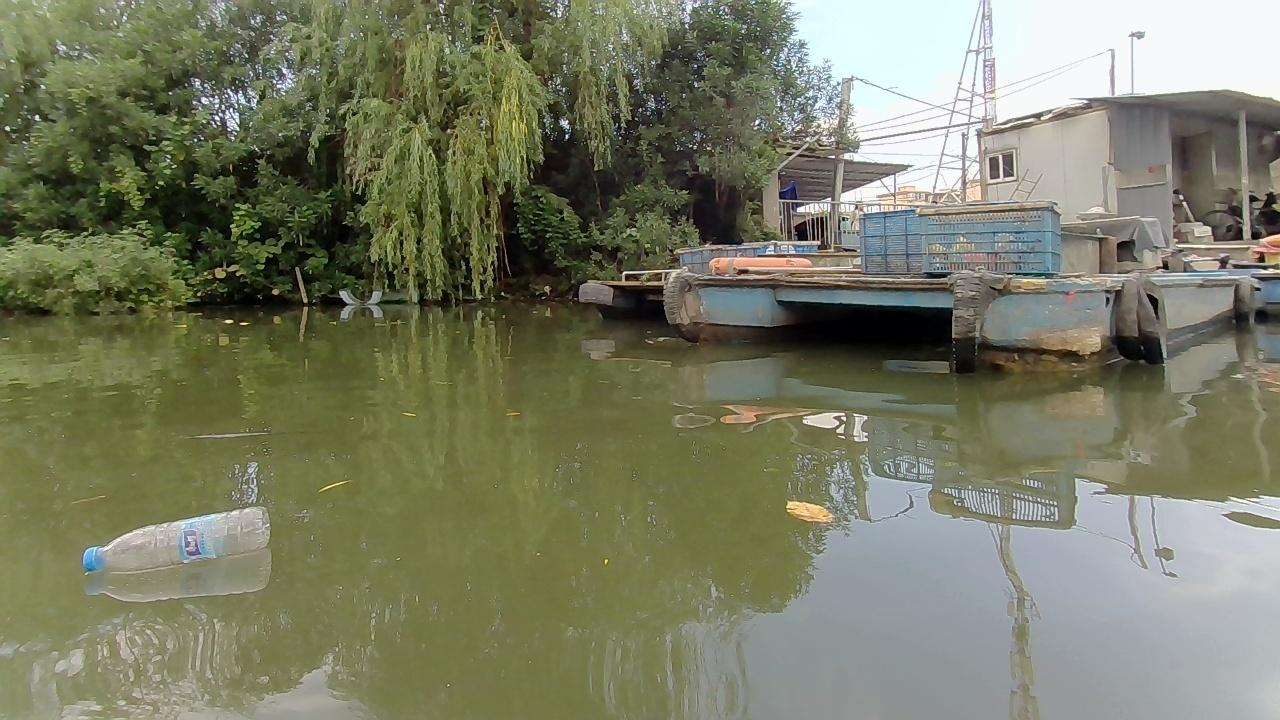bottle: (76, 502, 277, 573)
